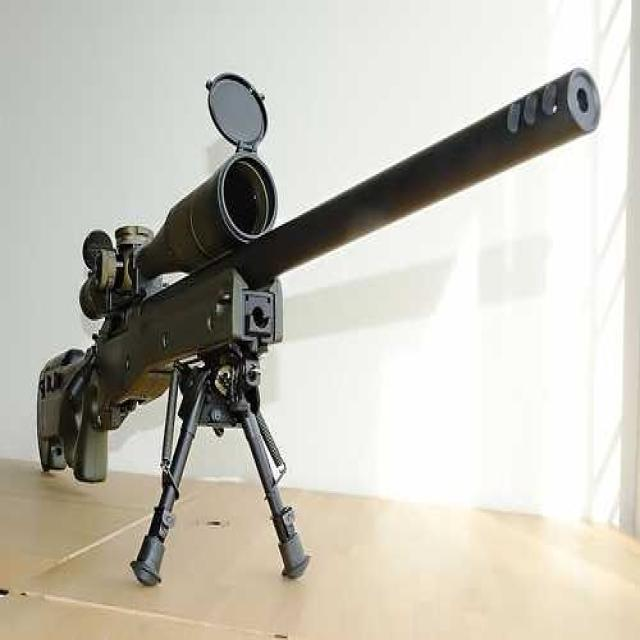heavyweapon: (28, 39, 594, 562)
